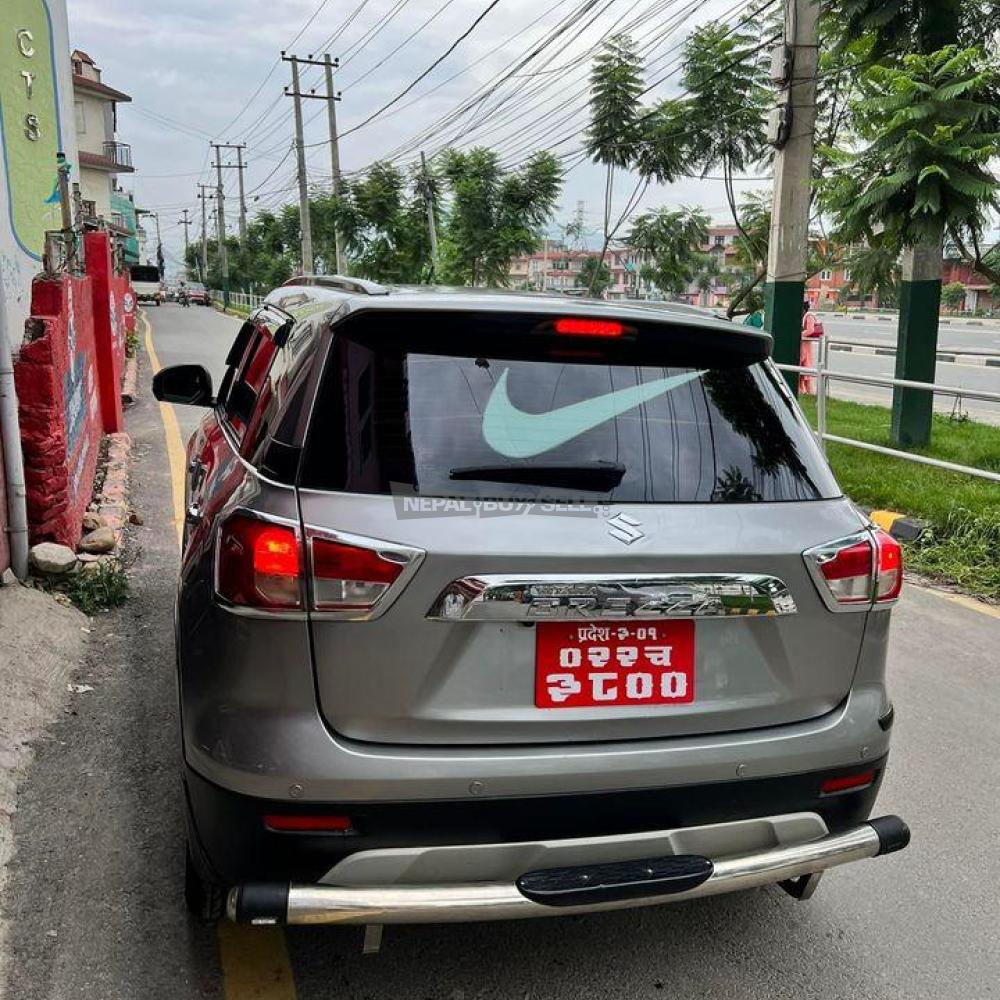number plate: (527, 618, 709, 712)
